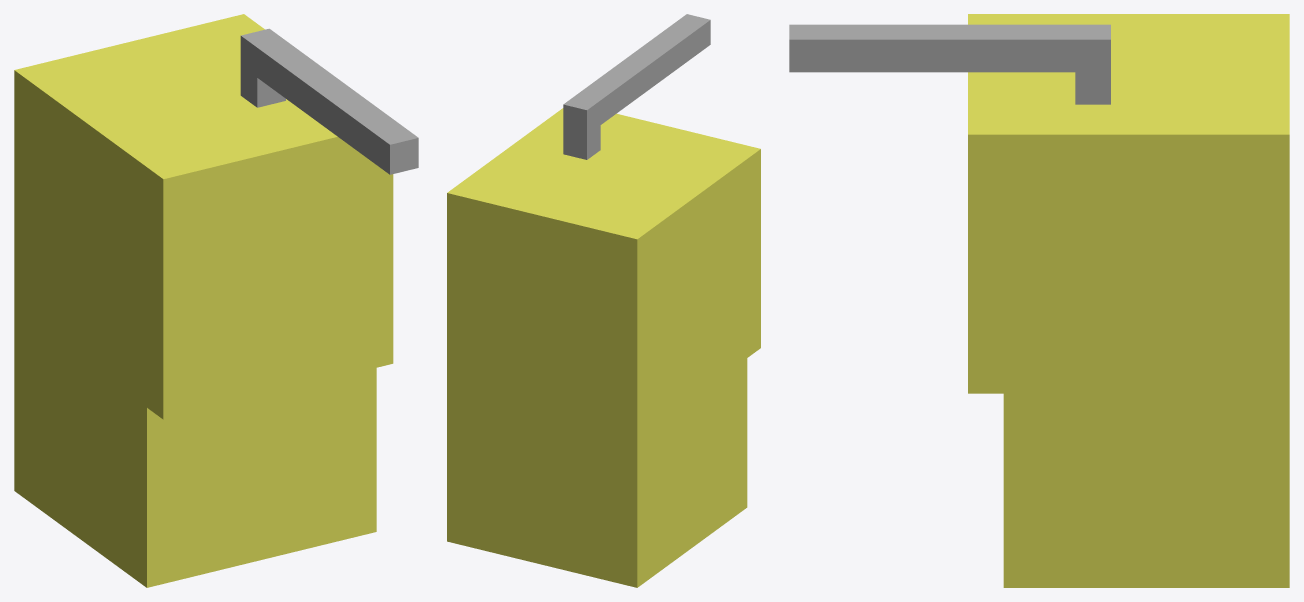
File: pathfinder head.obj
3 renders of one model, left to right at view 1: azimuth 30°, elevation 25°; view 2: azimuth 150°, elevation 25°; view 3: azimuth 270°, elevation 25°, orthographic. The views are drawn at different scales.
Size of the model in its own units: 8 by 16 by 14.
Materials: 1 (1 with a texture image).
